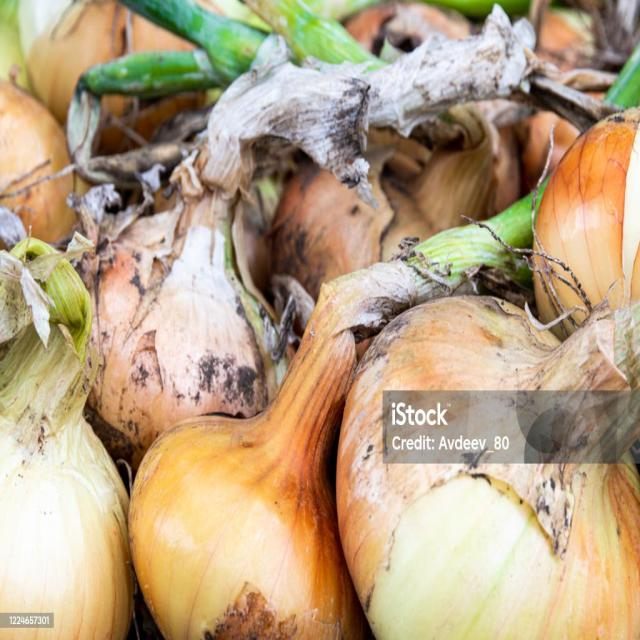rotten: (337, 278, 639, 632), (128, 271, 390, 636), (69, 173, 280, 470), (4, 234, 134, 635), (532, 108, 639, 333), (269, 158, 387, 310), (0, 72, 77, 255), (22, 2, 128, 127), (121, 2, 218, 128), (521, 111, 583, 193), (342, 2, 411, 55), (486, 121, 522, 211)
